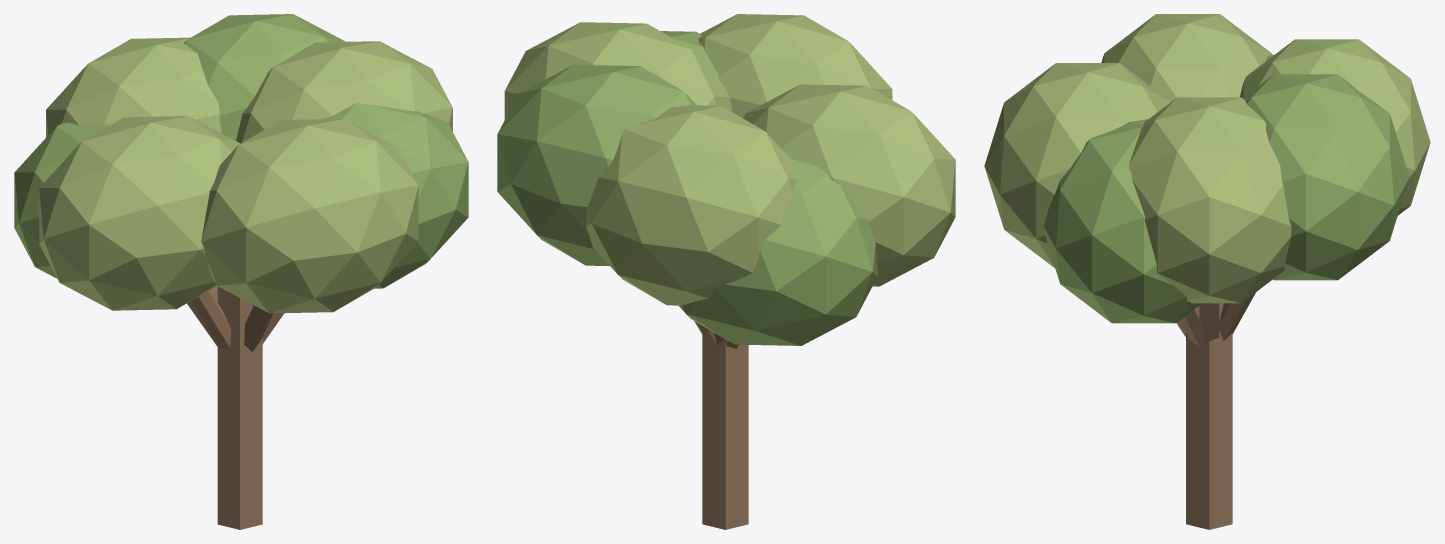
The model's file is tree_banyan.glb.
3 views of the same model, side by side, from view 1: azimuth 30°, elevation 25°; view 2: azimuth 150°, elevation 25°; view 3: azimuth 270°, elevation 25° (orthographic). The views are drawn at different scales.
Parts seen in each view (by area): view 1: part_6, part_10, part_2, part_14, part_0, part_12, part_8, part_4, part_9, part_5; view 2: part_14, part_10, part_8, part_4, part_6, part_2, part_0, part_12; view 3: part_2, part_8, part_12, part_6, part_10, part_0, part_14, part_7, part_1, part_11.
Boxes of the visible parts, box(x1,y1,x2,y2) form: part_6: box(201, 118, 418, 313); part_10: box(39, 116, 240, 310); part_2: box(236, 41, 452, 143); part_14: box(46, 37, 221, 137); part_0: box(217, 286, 262, 529); part_12: box(321, 102, 468, 288); part_8: box(184, 14, 345, 140); part_4: box(14, 122, 111, 278); part_9: box(191, 290, 231, 348); part_5: box(244, 305, 273, 352); part_14: box(586, 105, 797, 305); part_10: box(743, 84, 955, 286); part_8: box(497, 64, 696, 265); part_4: box(679, 151, 877, 345); part_6: box(698, 14, 892, 118); part_2: box(504, 22, 732, 119); part_0: box(702, 330, 748, 529); part_12: box(660, 31, 719, 79); part_2: box(1129, 97, 1291, 303); part_8: box(1243, 74, 1409, 280); part_12: box(1044, 119, 1201, 323); part_6: box(984, 63, 1170, 268); part_10: box(1101, 14, 1272, 102); part_0: box(1186, 303, 1232, 529); part_14: box(1240, 39, 1430, 215); part_7: box(1219, 293, 1255, 340); part_1: box(1199, 303, 1219, 341); part_11: box(1180, 306, 1203, 346).
Size of the model in its own units: 5.72 by 5.91 by 5.13.
